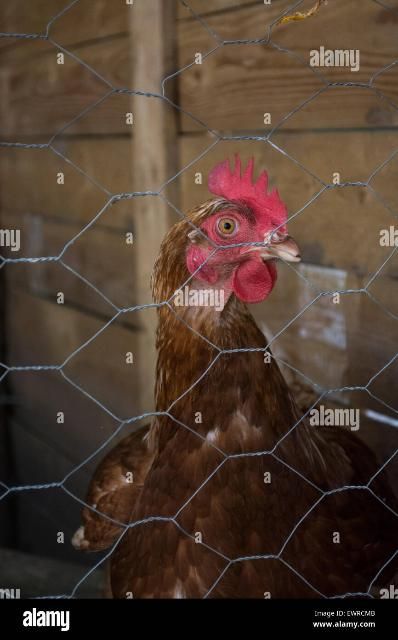Chicken: (87, 150, 398, 598)
